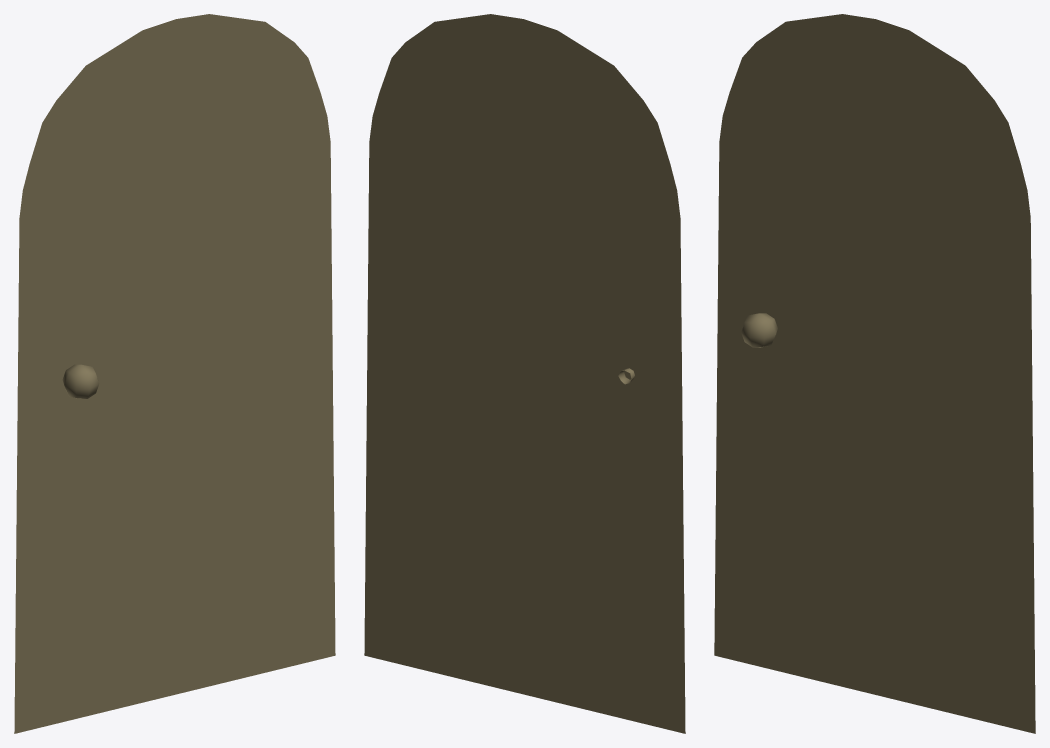
File: DoorD_1.fbx
3 renders of one model, left to right at view 1: azimuth 30°, elevation 25°; view 2: azimuth 150°, elevation 25°; view 3: azimuth 330°, elevation 25°, orthographic.
Parts seen in each view (by area): view 1: DoorD_1; view 2: DoorD_1; view 3: DoorD_1.
Part boxes in pixels (box(x1,y1,x2,y2)): DoorD_1: box(14, 14, 335, 733); DoorD_1: box(364, 14, 685, 733); DoorD_1: box(714, 14, 1035, 733).
Size of the model in its own units: 92.92 by 187 by 12.54.
